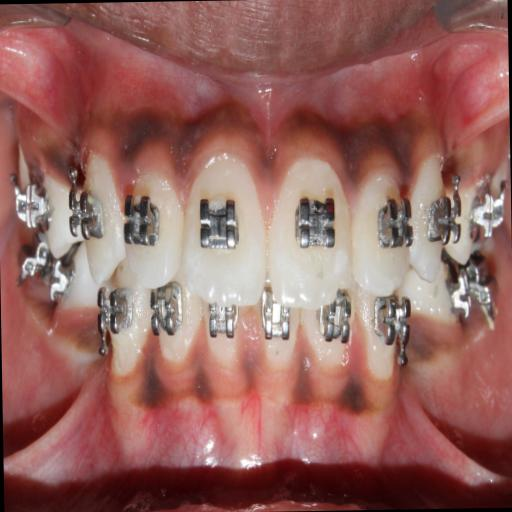correct_brace: (194, 190, 239, 266), (289, 190, 338, 248), (425, 189, 466, 248), (375, 192, 415, 250), (124, 190, 162, 244), (67, 187, 103, 242)
incorrect_brace: (351, 156, 412, 298), (122, 164, 184, 292)
